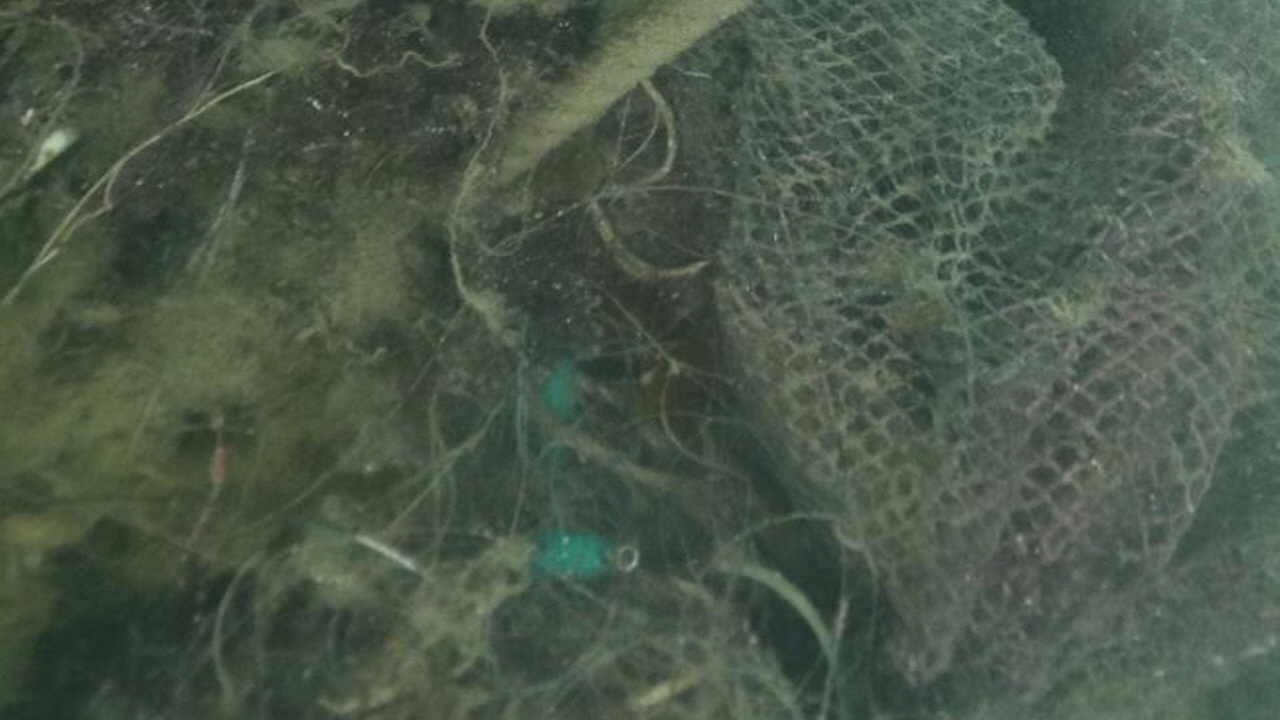fish net: (715, 0, 1280, 720)
